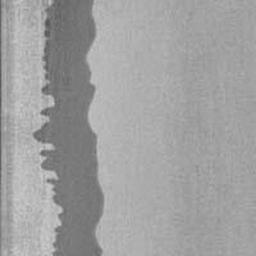Water spot: (32, 0, 106, 256)
